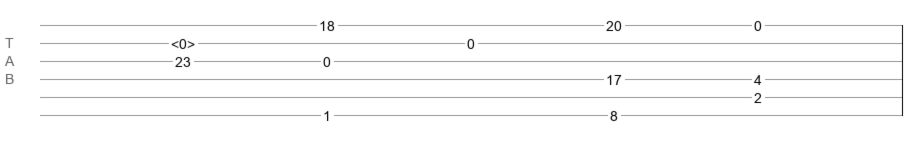0: (323, 54, 331, 64), (467, 36, 475, 46), (754, 18, 762, 28)
1: (323, 108, 331, 118)
17: (606, 72, 622, 82)
18: (319, 18, 335, 28)
2: (754, 90, 762, 100)
20: (606, 18, 622, 28)
23: (175, 54, 191, 64)
4: (754, 72, 762, 82)
8: (610, 108, 618, 118)
harmonic: (171, 36, 195, 46)
